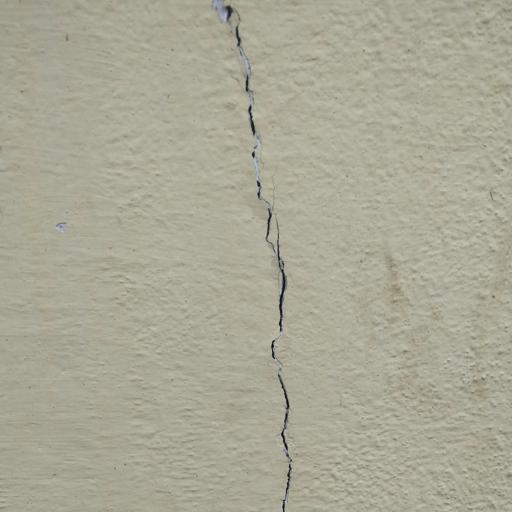major_crack: (195, 0, 309, 512)
